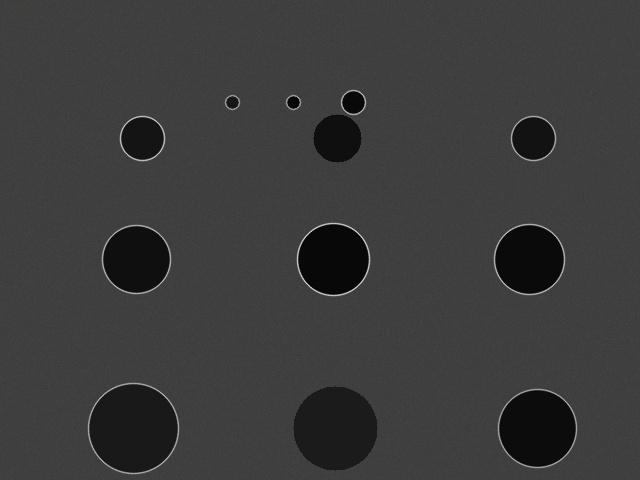hole: (88, 383, 178, 473), (293, 386, 377, 470), (498, 389, 576, 467), (297, 223, 369, 295), (494, 224, 564, 294), (102, 225, 170, 293), (313, 114, 361, 162), (120, 116, 164, 160), (511, 116, 555, 160), (341, 90, 365, 114), (225, 95, 239, 109), (286, 95, 300, 109)
